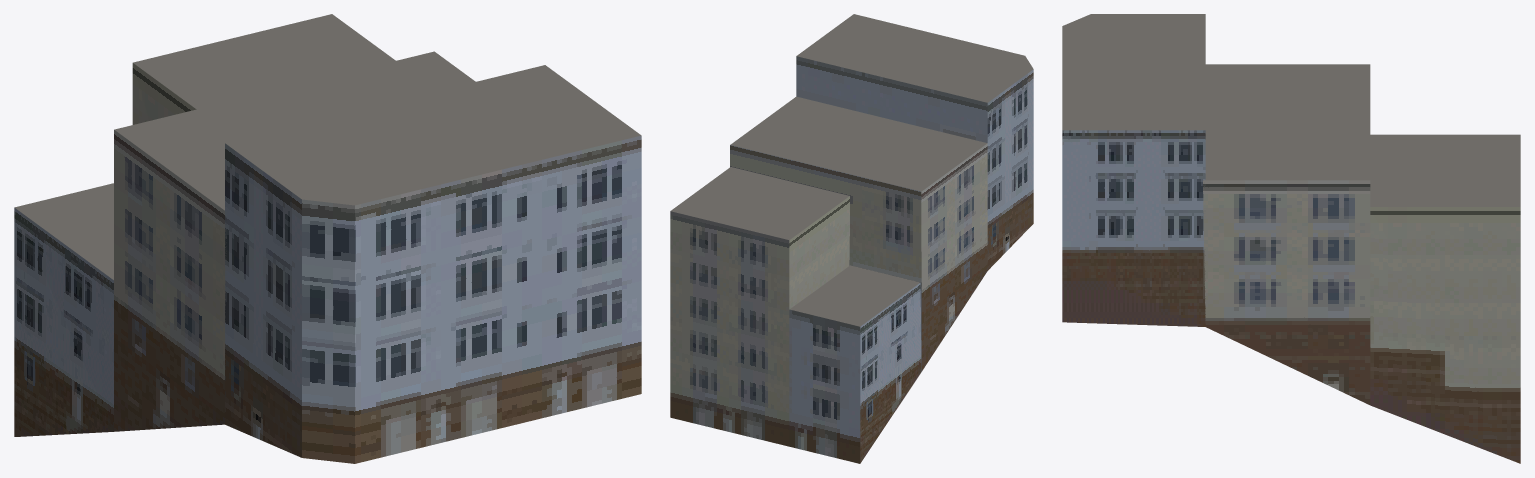
File: loda01.obj
The picture shows the model from 3 angles, left to right: view 1: azimuth 30°, elevation 25°; view 2: azimuth 150°, elevation 25°; view 3: azimuth 270°, elevation 25°; orthographic projection. The views are drawn at different scales.
Visible parts, largest first — view 1: LODA01; view 2: LODA01; view 3: LODA01.
Part boxes in pixels (bbox=[...]): LODA01: bbox=[14, 14, 641, 463]; LODA01: bbox=[670, 14, 1033, 463]; LODA01: bbox=[1062, 14, 1520, 463].
Size of the model in its own units: 36.05 by 48.35 by 60.13.
9 materials, 9 textured.
